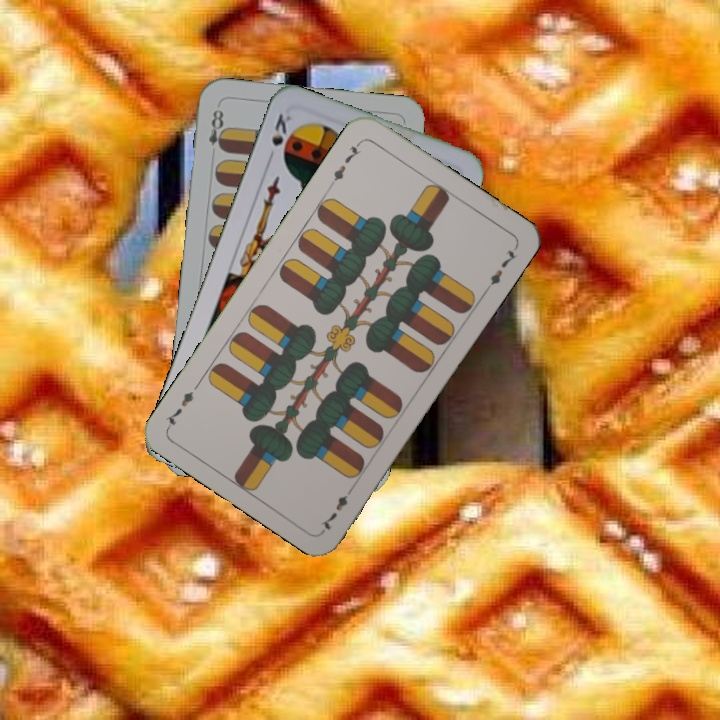E7: (316, 482, 357, 534), (326, 137, 364, 190)
E8: (204, 105, 229, 154)
SK: (267, 109, 294, 149)
